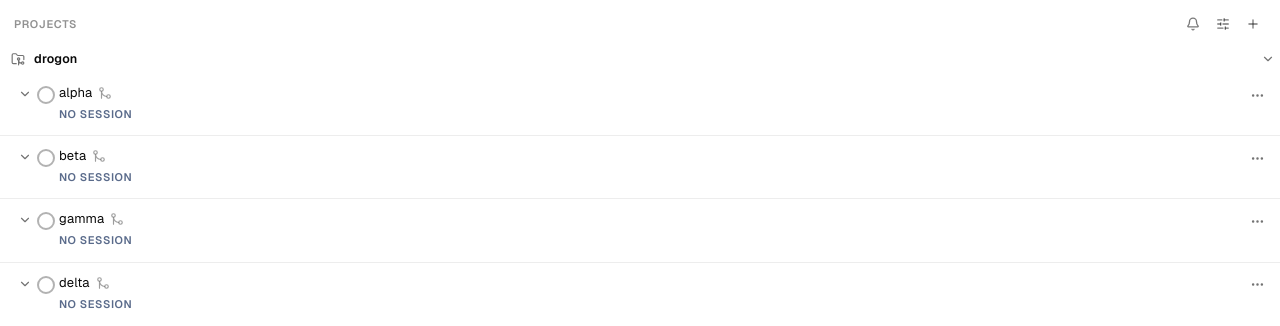
Test: the bulk context menu › right-clicking inside the selection opens the counted bulk menu
The width and height of the screenshot is (1280, 326).
Click the button with class "shell-worktree-card-select" showing "alpha NO SESSION". click: {"x": 76, "y": 92}
box: [59,83,1241,125]
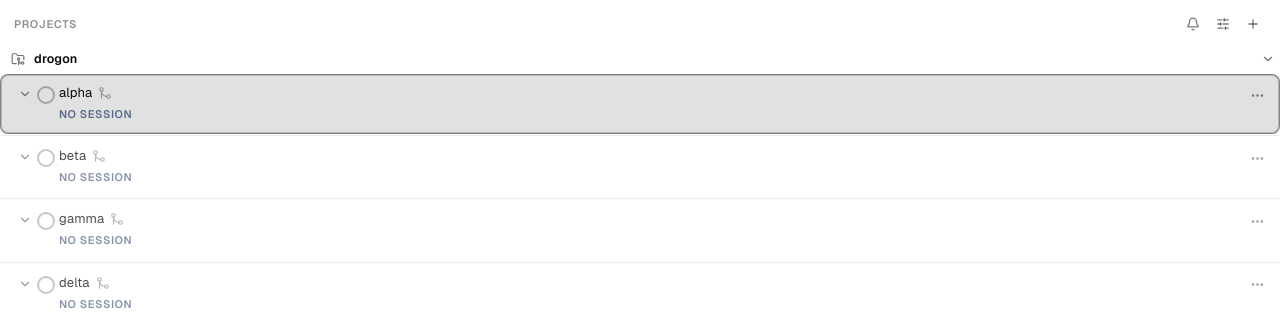
Click the button with class "shell-worktree-card-select" showing "beta NO SESSION". click: {"x": 96, "y": 177}
box: [59,146,1241,188]
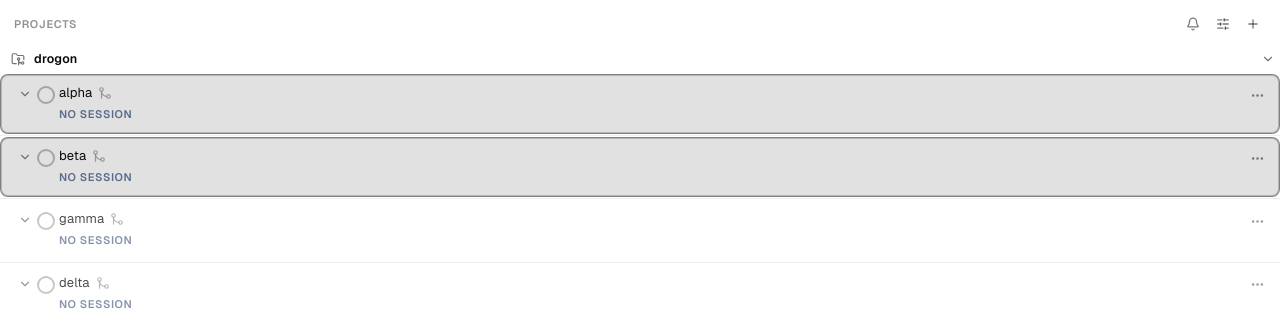
Right-click the element showing "beta NO SESSION" at {"x": 640, "y": 167}, box [0,137,1279,197]
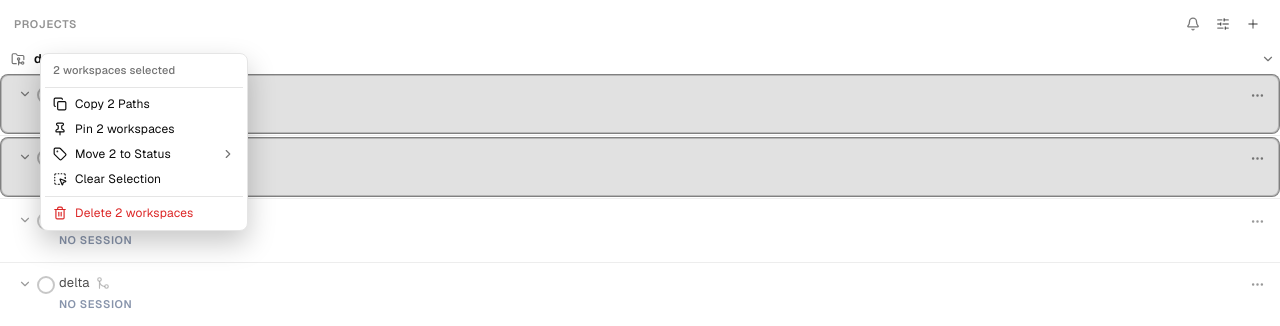
Check: the menu with class "shell-worktree-context-menu" shows "2 workspaces selected", box [40,53,248,230]
Check: the menu item with class "shell-worktree-context-menu-item" showing "Delete 2 workspaces" is shown, box [53,204,194,220]
Check: the menu item with class "shell-worktree-context-menu-item" showing "Pin 2 workspaces" is shown, box [53,120,175,136]
